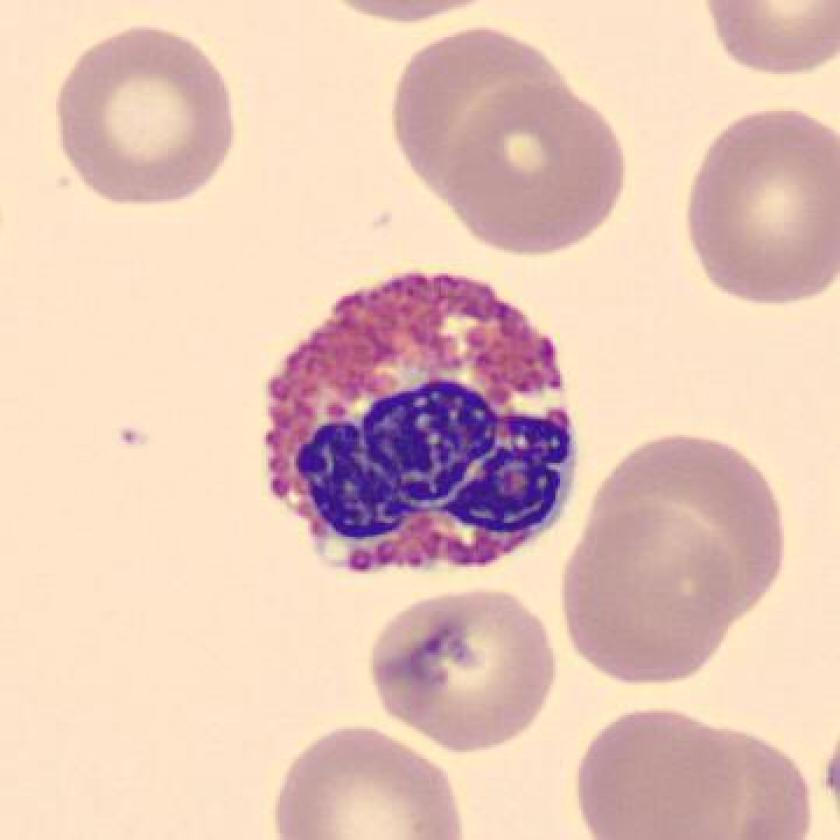eosinophil: (244, 249, 591, 600)
